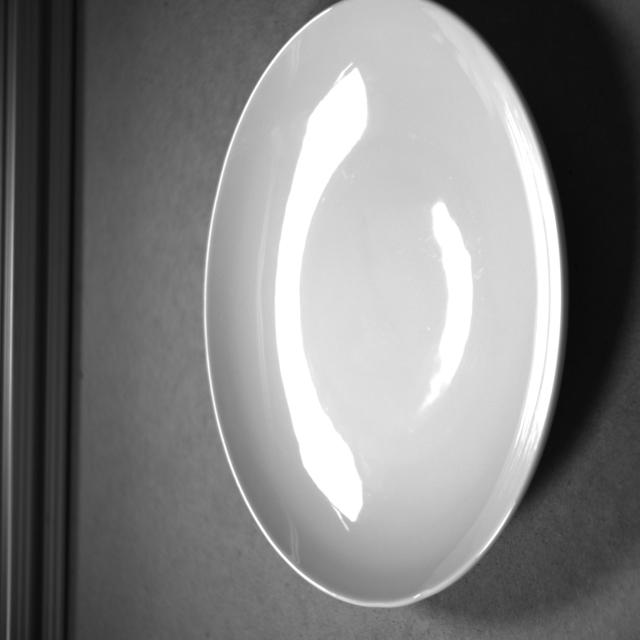plate: (173, 0, 576, 623)
